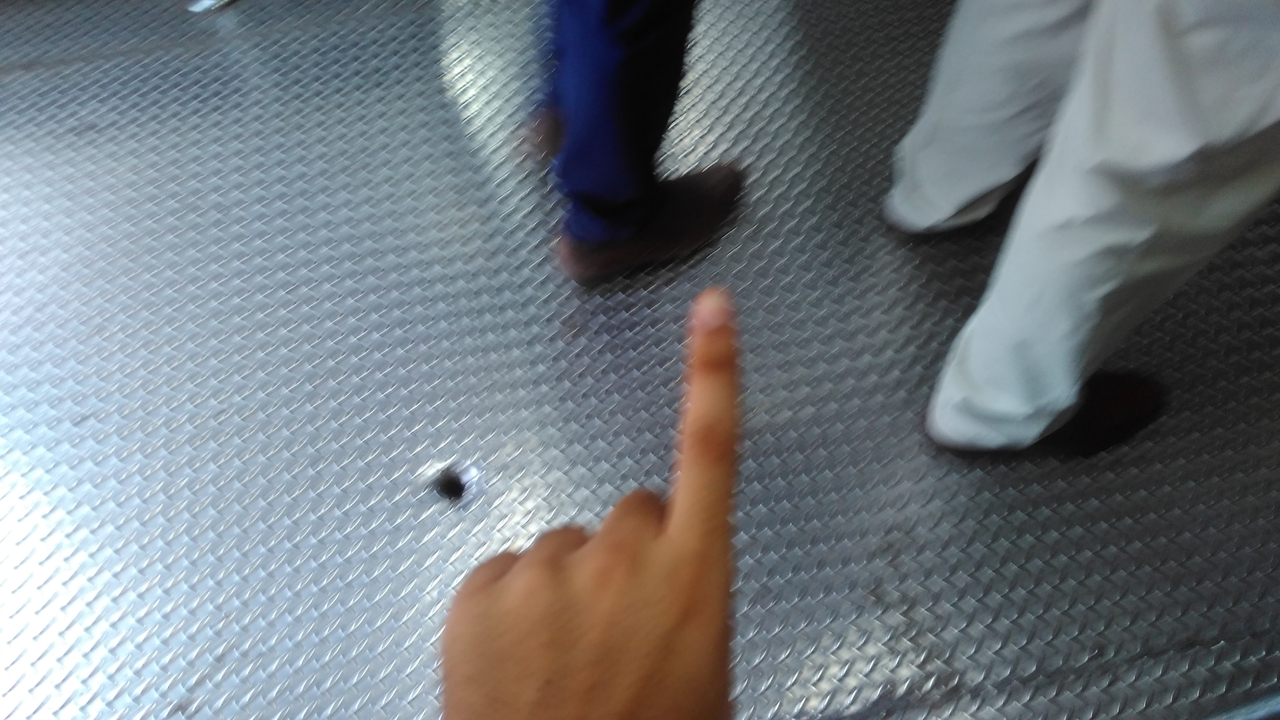fingertip: (680, 270, 748, 342)
